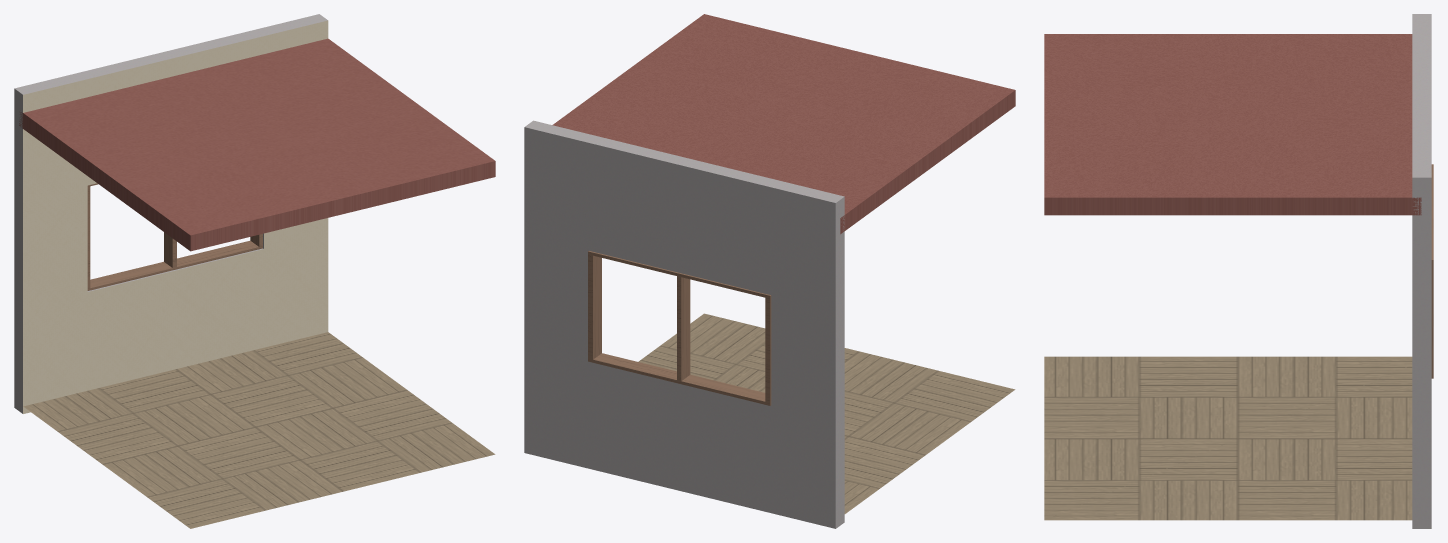
The model's file is house_w1_window.fbx.
The picture shows the model from 3 angles, left to right: view 1: azimuth 30°, elevation 25°; view 2: azimuth 150°, elevation 25°; view 3: azimuth 270°, elevation 25°; orthographic projection. The views are drawn at different scales.
Parts seen in each view (by area): view 1: wall_1_window.001; view 2: wall_1_window.001; view 3: wall_1_window.001.
Part boxes in pixels (box(x1,y1,x2,y2)): wall_1_window.001: box(14, 14, 495, 528); wall_1_window.001: box(524, 14, 1015, 528); wall_1_window.001: box(1044, 14, 1433, 528).
Size of the model in its own units: 2 by 2 by 2.01.
2 materials, 2 textured.
